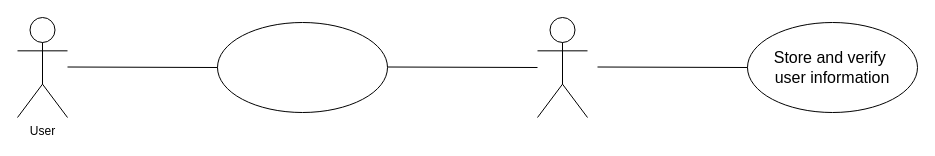
Some shapes in this 935 by 156 pixel diagram are drawn without their labels. Each missing label, with the centre of its shape:
Register/login in /log out: point (302, 67)
User_DB: point (562, 67)
